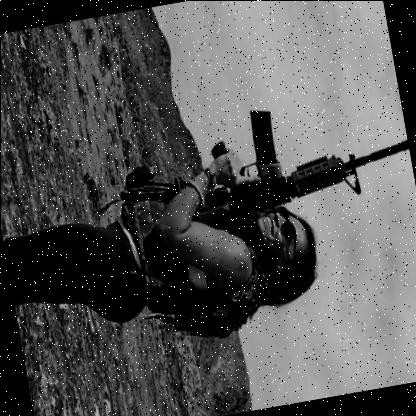rifle: (162, 87, 416, 235)
